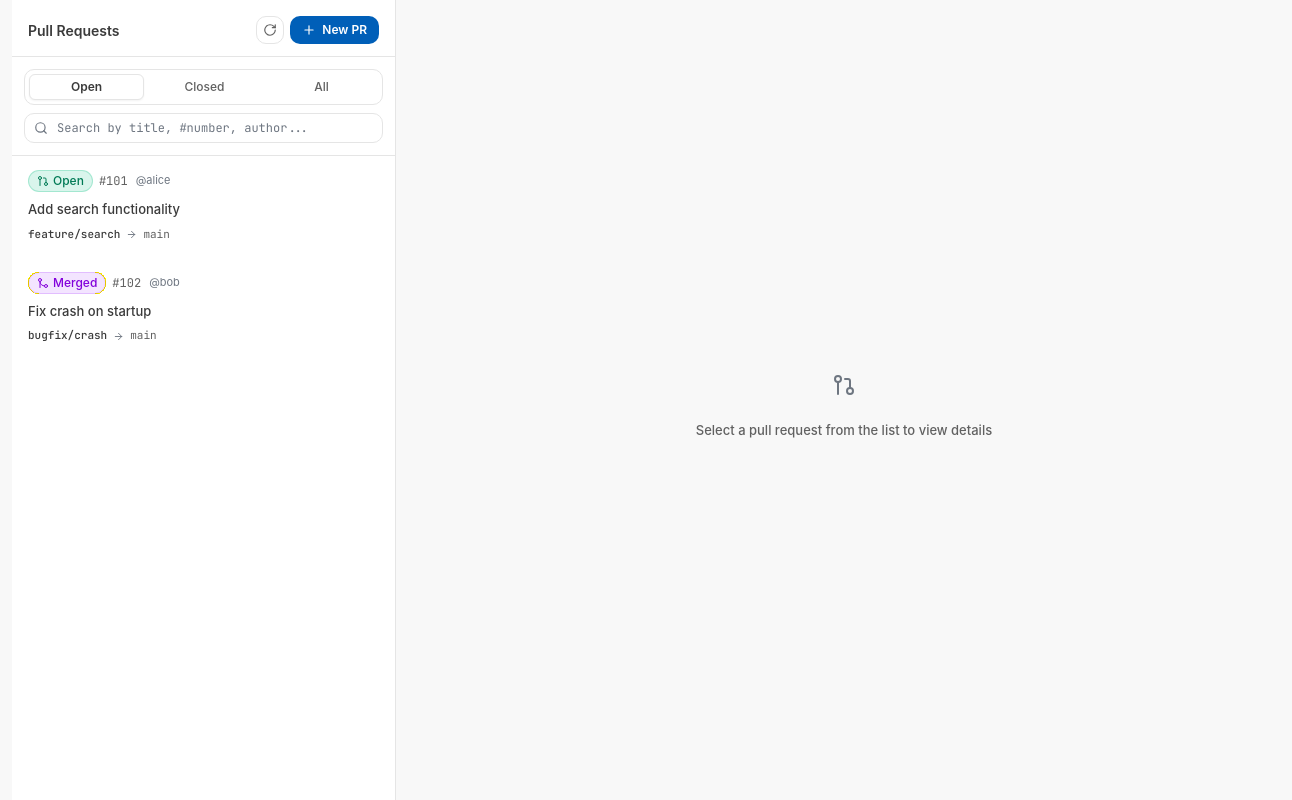
Test case: PullRequestsScreen › selects a PR from master pane and renders details in detail pane
Click the text "Add search functionality" at [104, 209], box [28,200,180,219]
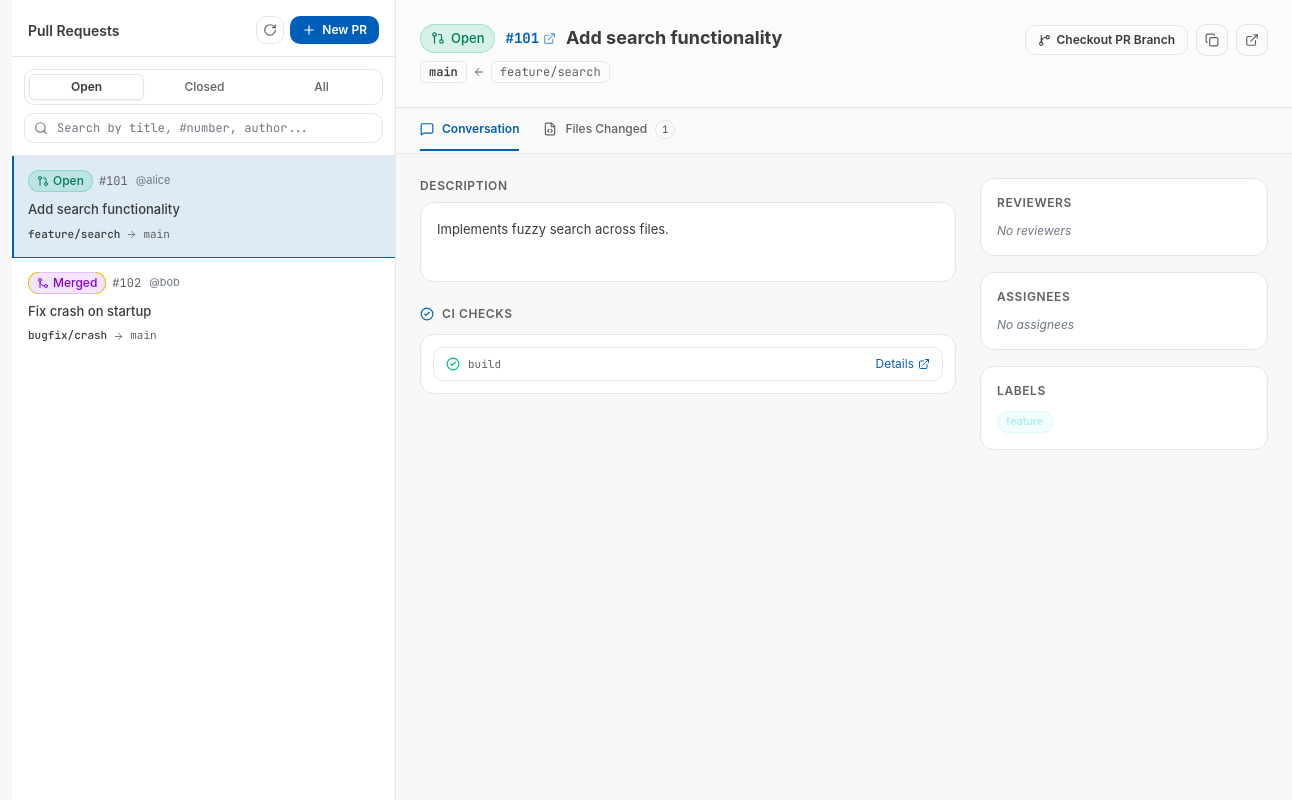
expect the text "Implements fuzzy search across files." is shown: met, box [420,202,956,282]
